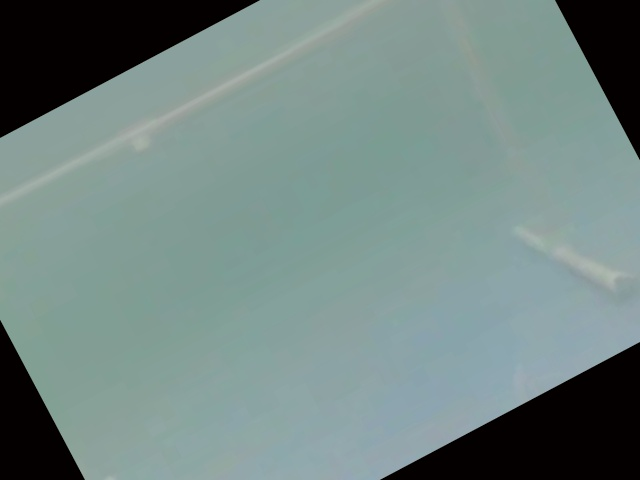gate: (13, 0, 640, 421)
